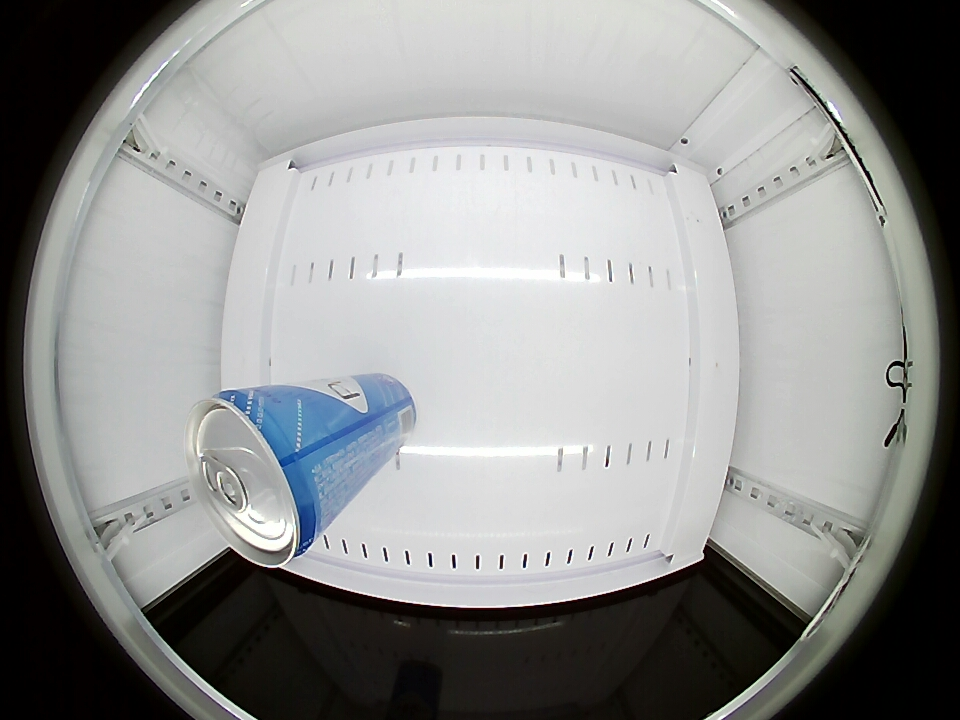qingdaowangzi-2: (186, 388, 335, 569)
